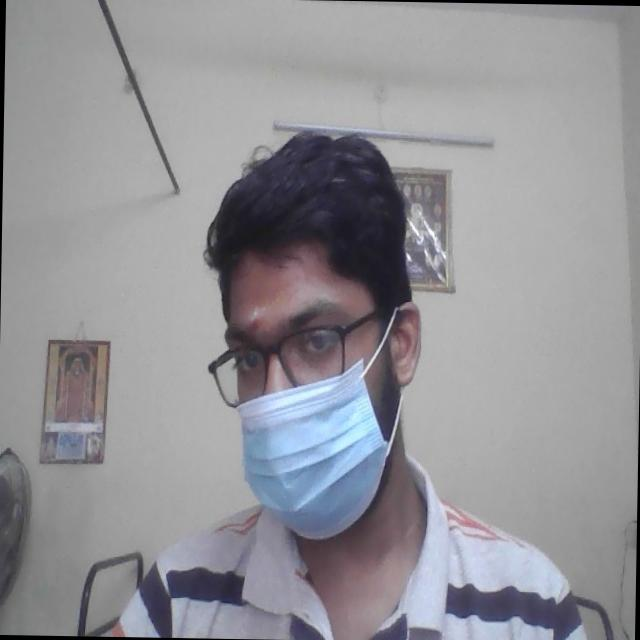Focused: (214, 258, 391, 517)
